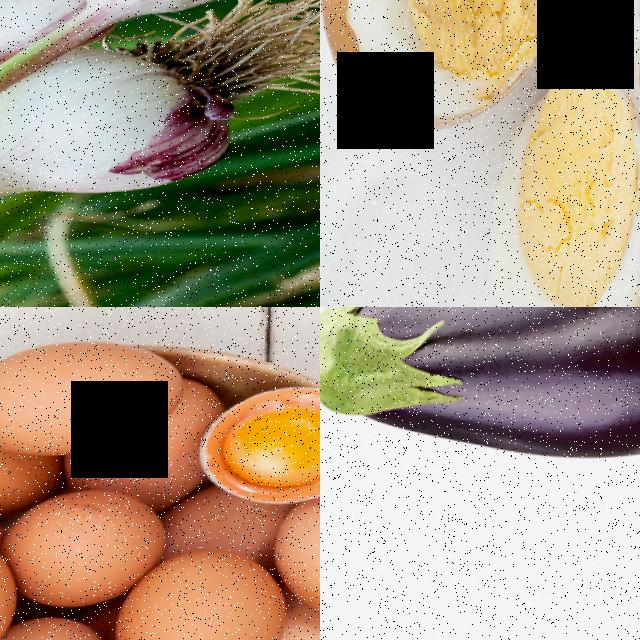egg_: (484, 73, 640, 307), (320, 0, 577, 133), (0, 332, 189, 460), (5, 486, 167, 614), (121, 562, 286, 640), (226, 406, 320, 495), (283, 489, 320, 638)
eggplant: (320, 307, 640, 498)
garlic: (59, 0, 241, 29)
